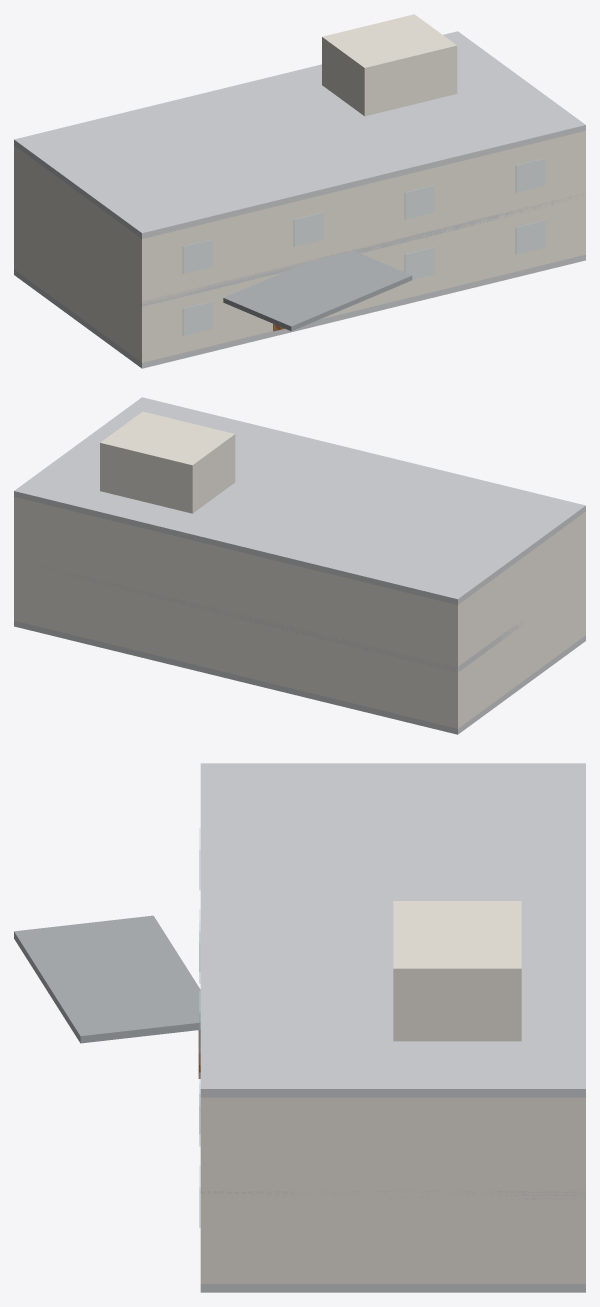
Rendered from padiglione-c.glb.
The picture shows the model from 3 angles, top to bottom: view 1: azimuth 30°, elevation 25°; view 2: azimuth 150°, elevation 25°; view 3: azimuth 270°, elevation 25°; orthographic projection. The views are drawn at different scales.
Parts seen in each view (by area): view 1: Solaio copertura, Muro perimetrale sud P1, Muro perimetrale sud P0, Locale tecnico, Pensilina ingresso, Muro perimetrale ovest P0, Muro perimetrale ovest P1, Solaio P0, Solaio P1, Finestra sud P0-01, Finestra sud P0-04, Finestra sud P1-04 (+4 smaller); view 2: Solaio copertura, Muro perimetrale nord P1, Muro perimetrale nord P0, Locale tecnico, Muro perimetrale ovest P1, Muro perimetrale ovest P0, Solaio P0, Solaio P1; view 3: Solaio copertura, Muro perimetrale est P1, Muro perimetrale est P0, Locale tecnico, Pensilina ingresso, Solaio P0, Muro perimetrale sud P1, Muro perimetrale sud P0, Muro perimetrale nord P1, Muro perimetrale nord P0, Solaio P1.
Boxes of the visible parts, box(x1,y1,x2,y2) form: Solaio copertura: box(14, 31, 585, 238); Muro perimetrale sud P1: box(139, 131, 585, 300); Muro perimetrale sud P0: box(139, 193, 585, 362); Locale tecnico: box(322, 14, 457, 116); Pensilina ingresso: box(223, 251, 412, 331); Muro perimetrale ovest P0: box(17, 210, 138, 360); Muro perimetrale ovest P1: box(17, 148, 138, 298); Solaio P0: box(14, 254, 585, 368); Solaio P1: box(14, 194, 584, 306); Finestra sud P0-01: box(183, 301, 212, 335); Finestra sud P0-04: box(516, 220, 545, 254); Finestra sud P1-04: box(516, 158, 545, 192); Solaio copertura: box(14, 397, 585, 604); Muro perimetrale nord P1: box(14, 497, 460, 666); Muro perimetrale nord P0: box(14, 559, 460, 728); Locale tecnico: box(100, 411, 235, 513); Muro perimetrale ovest P1: box(461, 514, 582, 664); Muro perimetrale ovest P0: box(461, 576, 582, 726); Solaio P0: box(14, 620, 585, 734); Solaio P1: box(14, 559, 585, 672); Solaio copertura: box(200, 763, 585, 1097); Muro perimetrale est P1: box(210, 1097, 576, 1190); Muro perimetrale est P0: box(210, 1191, 576, 1283); Locale tecnico: box(393, 901, 521, 1041); Pensilina ingresso: box(14, 915, 200, 1043); Solaio P0: box(200, 1284, 585, 1292); Muro perimetrale sud P1: box(200, 1097, 210, 1190); Muro perimetrale sud P0: box(200, 1191, 210, 1283); Muro perimetrale nord P1: box(576, 1097, 585, 1190); Muro perimetrale nord P0: box(576, 1191, 585, 1283); Solaio P1: box(201, 1191, 585, 1199).
Size of the model in its own units: 24 by 9.5 by 17.81.
Materials: 5 (1 with a texture image).
